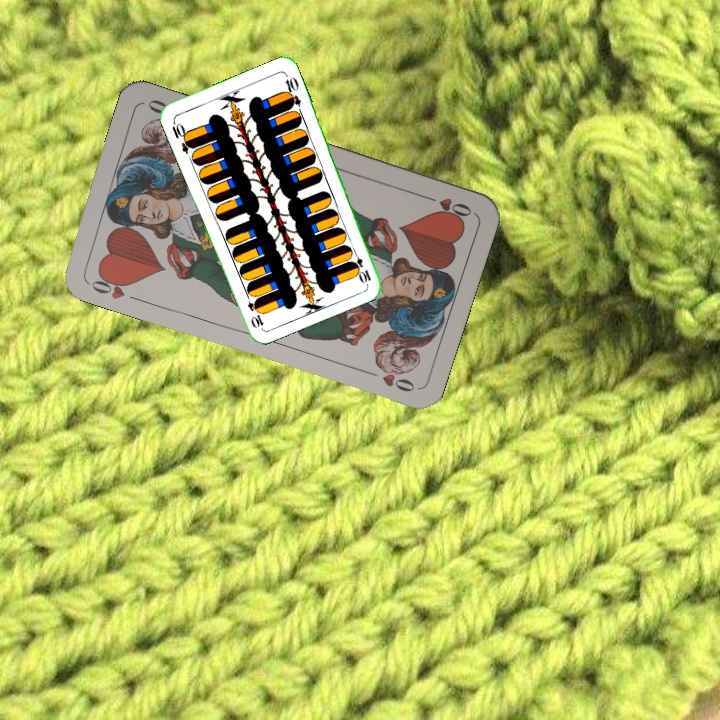E10: (168, 117, 196, 156), (348, 246, 374, 286)
HO: (418, 190, 474, 221), (84, 269, 135, 302)
